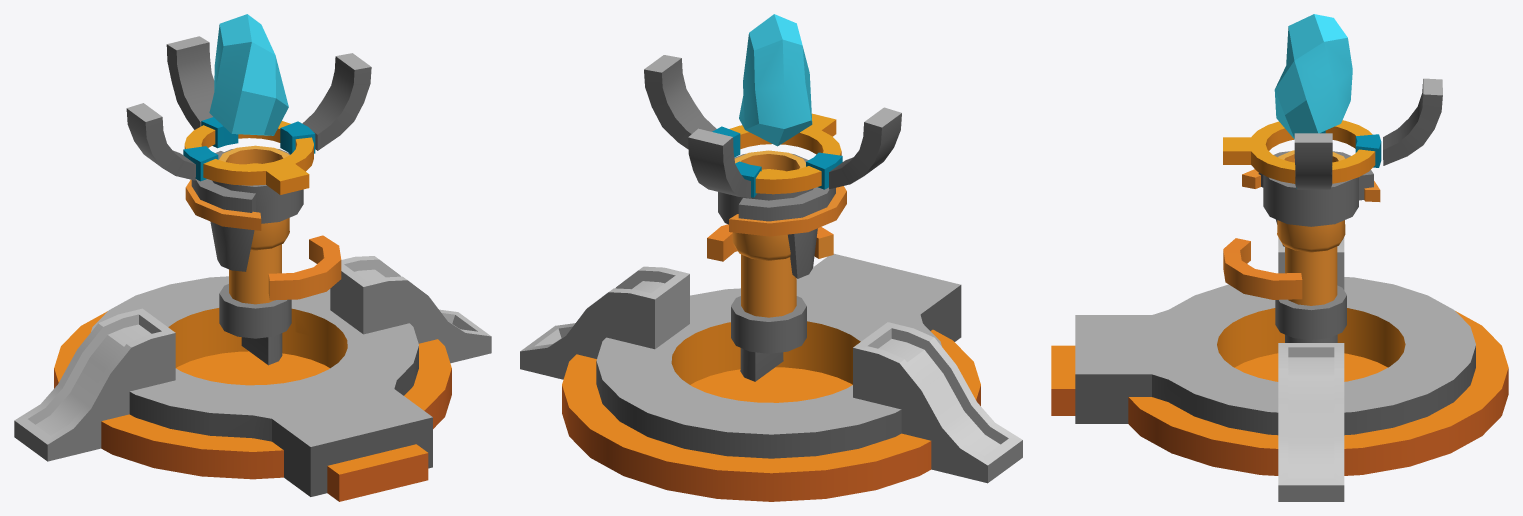
Rendered from Tp Tower Lv3.fbx.
3 views of the same model, side by side, from view 1: azimuth 30°, elevation 25°; view 2: azimuth 150°, elevation 25°; view 3: azimuth 270°, elevation 25° (orthographic). The views are drawn at different scales.
Parts seen in each view (by area): view 1: Ice Tower Lv3, Boru Lv3, Crystal Lv3; view 2: Ice Tower Lv3, Boru Lv3, Crystal Lv3; view 3: Ice Tower Lv3, Boru Lv3, Crystal Lv3.
Boxes of the visible parts, <box> form: Ice Tower Lv3: <box>14,36,491,501</box>; Boru Lv3: <box>185,145,341,365</box>; Crystal Lv3: <box>209,14,288,135</box>; Ice Tower Lv3: <box>520,55,1022,501</box>; Boru Lv3: <box>707,150,846,381</box>; Crystal Lv3: <box>739,14,812,146</box>; Ice Tower Lv3: <box>1051,78,1508,501</box>; Boru Lv3: <box>1223,150,1380,342</box>; Crystal Lv3: <box>1274,14,1352,139</box>.
Bounding box in the file's own units: 433 × 355 × 389.
